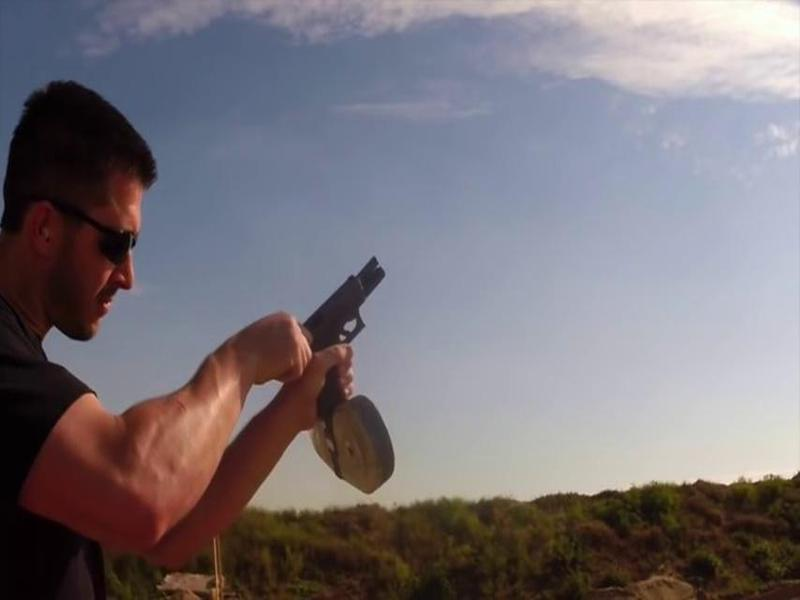Pistola: (254, 250, 417, 417)
